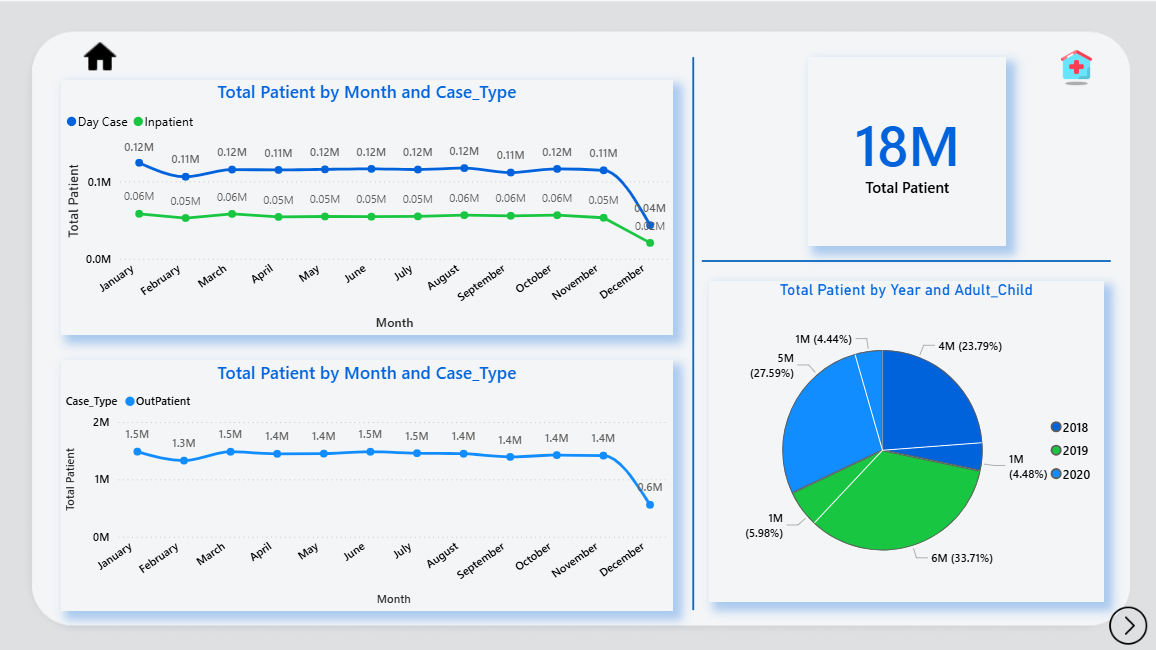

This screenshot's page, from the dashboard's own definition file:
{"tool":"powerbi","page":{"name":"Case Type","canvas":[1280,720],"ordinal":1},"visuals":[{"type":"image","box":[10,0,1270,720],"z":0},{"type":"lineChart","fields":{"Y":["measurs.Total Patient"],"Category":["Hospital data.Archive_Date.Variation.Date Hierarchy.Month"],"Series":["Hospital data.Case_Type"]},"box":[87.4,95.5,660.6,275.3],"z":1000},{"type":"lineChart","fields":{"Y":["measurs.Total Patient"],"Category":["Hospital data.Archive_Date.Variation.Date Hierarchy.Month"],"Series":["Hospital data.Case_Type"]},"box":[87.4,398.3,660.6,270.4],"z":2000},{"type":"pieChart","fields":{"Y":["measurs.Total Patient"],"Category":["Hospital data.Archive_Date.Variation.Date Hierarchy.Year","Hospital data.Case_Type"],"Series":["Hospital data.Adult_Child"]},"box":[786.9,312.5,425.9,346.5],"z":2001},{"type":"card","fields":{"Values":["measurs.Total Patient"]},"box":[893.8,71.2,213.7,204],"z":2002},{"type":"shape","box":[722.2,71.2,95.5,597.5],"z":2003},{"type":"shape","box":[778.8,275.3,442,32.4],"z":2004},{"type":"image","box":[1127,55.1,113.3,51.8],"z":2005},{"type":"image","box":[1211.3,657.6,56.7,54.8],"z":2006},{"type":"image","box":[105.2,47,48.6,48.6],"z":2007}]}

Visuals, with their boxes in screenshot pixels (x1, y1, x2, y2), scaled from the page's 1280x720 canvas onto the 1156x650 screenshot:
image: detection(9, 0, 1155, 649)
lineChart - measurs.Total Patient x Hospital data.Archive_Date.Variation.Date Hierarchy.Month: detection(79, 86, 676, 335)
lineChart - measurs.Total Patient x Hospital data.Archive_Date.Variation.Date Hierarchy.Month: detection(79, 360, 676, 604)
pieChart - measurs.Total Patient x Hospital data.Archive_Date.Variation.Date Hierarchy.Year: detection(711, 282, 1095, 595)
card - measurs.Total Patient: detection(807, 64, 1000, 248)
shape: detection(652, 64, 738, 604)
shape: detection(703, 249, 1103, 278)
image: detection(1018, 50, 1120, 97)
image: detection(1094, 594, 1145, 643)
image: detection(95, 42, 139, 86)
